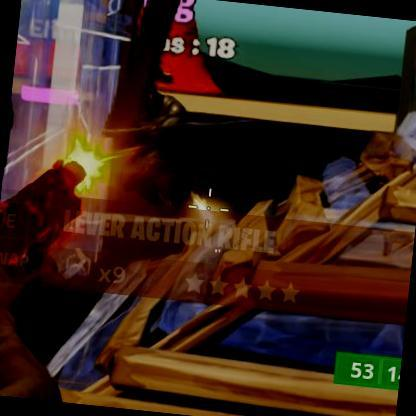person: (99, 74, 214, 240)
